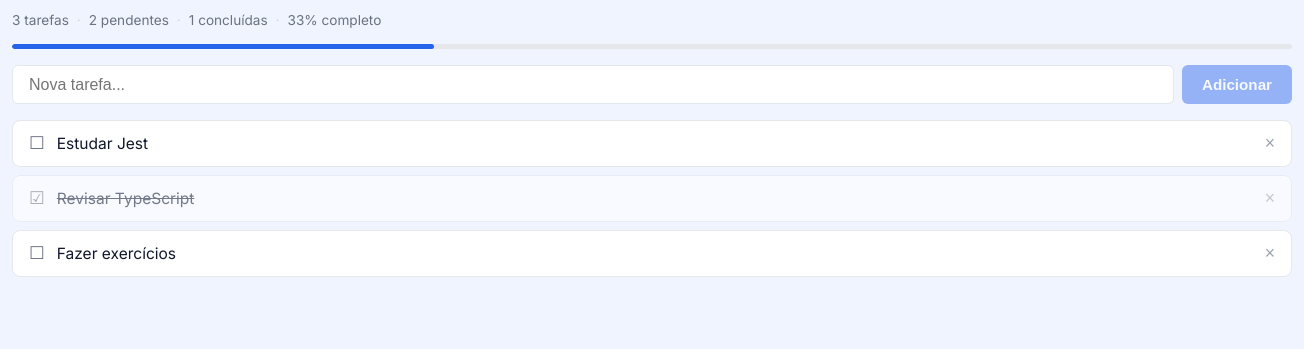
Test: ListaDeTarefas — adicionar tarefa › adiciona uma nova tarefa à lista
This screenshot has width=1304, height=349.
Type "Nova tarefa de teste" into the field with test id "input-nova-tarefa" at (593, 85), box [12,65,1174,104]
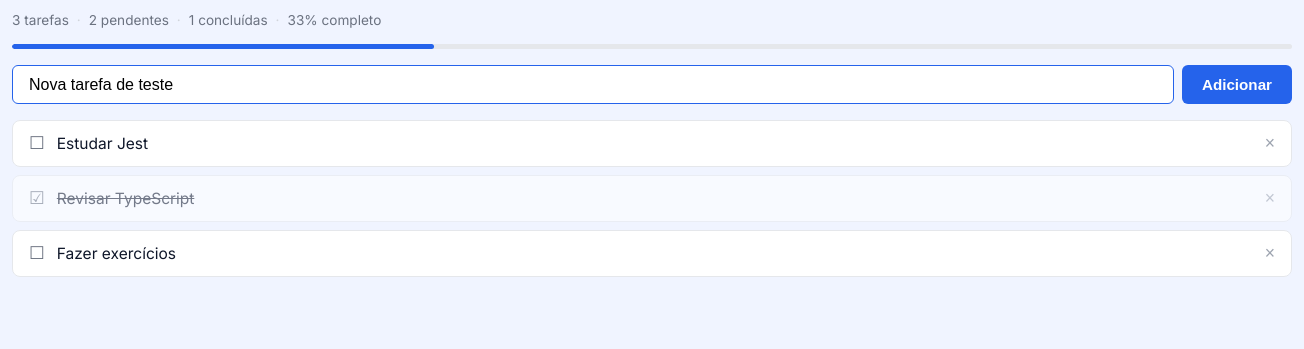
Submit the form with test id "form-nova-tarefa", box [12,65,1292,104]
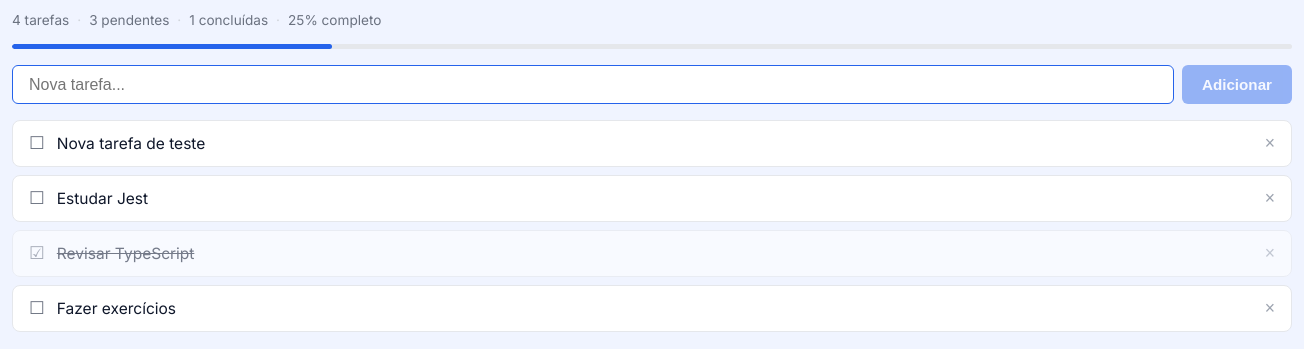
Expected: the text "Nova tarefa de teste" is shown, [57,134,205,153]
